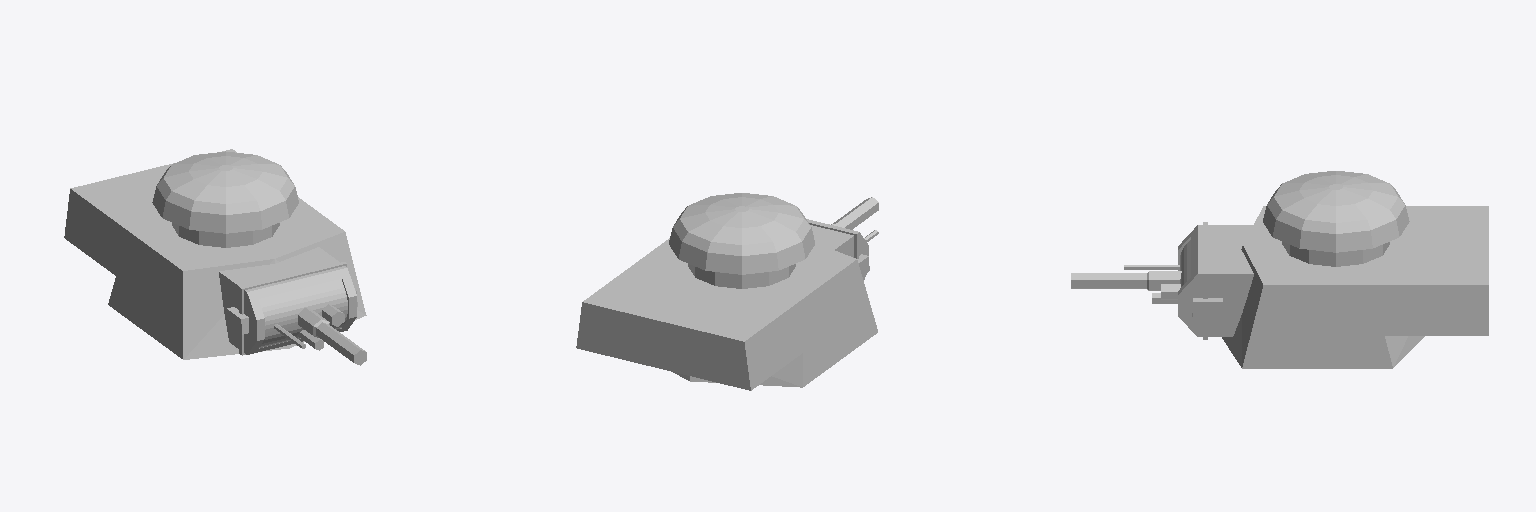
The model's file is turret.obj.
The picture shows the model from 3 angles: view 1: azimuth 30°, elevation 25°; view 2: azimuth 150°, elevation 25°; view 3: azimuth 270°, elevation 25°; orthographic projection.
Visible parts, largest first — view 1: turret_UV.001; view 2: turret_UV.001; view 3: turret_UV.001.
Part boxes in pixels (x1,y1,x2,y2): turret_UV.001: (64,149,366,365); turret_UV.001: (576,193,878,390); turret_UV.001: (1071,171,1488,368).
Size of the model in its own units: 5.55 by 3.94 by 11.